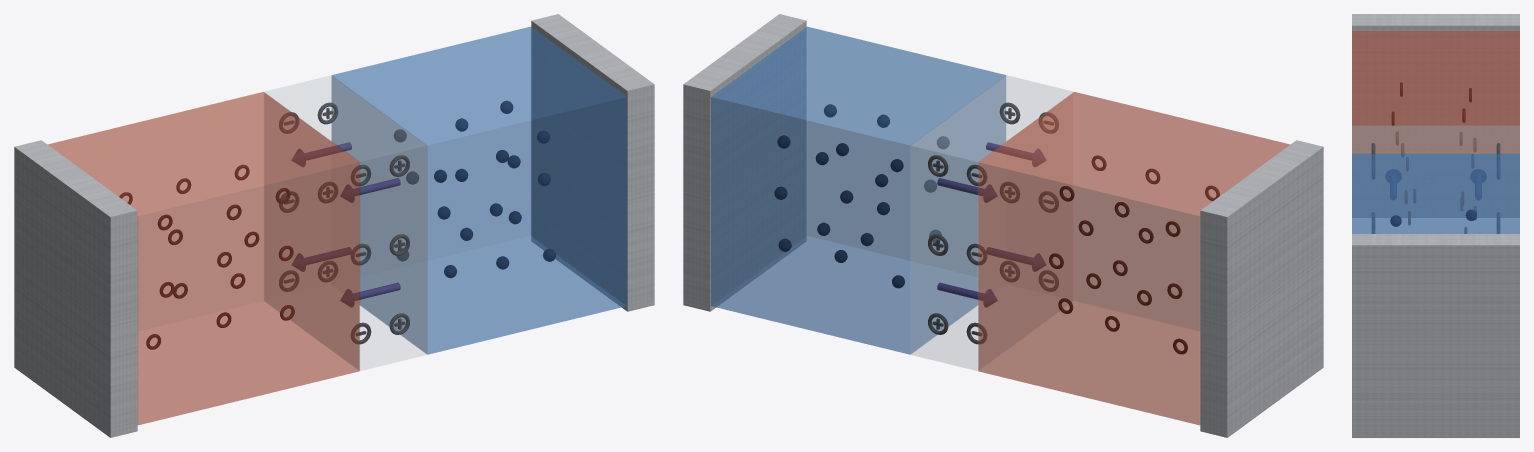
Rendered from pn-junction.glb.
The picture shows the model from 3 angles, left to right: view 1: azimuth 30°, elevation 25°; view 2: azimuth 150°, elevation 25°; view 3: azimuth 270°, elevation 25°; orthographic projection. The views are drawn at different scales.
Parts seen in each view (by area): view 1: NRegion, PRegion, AnodeContact, CathodeContact, DepletionZone, BuiltInField; view 2: NRegion, PRegion, AnodeContact, CathodeContact, DepletionZone, BuiltInField; view 3: CathodeContact, AnodeContact, PRegion, NRegion, DepletionZone, BuiltInField.
Part boxes in pixels (x1,y1,x2,y2): NRegion: (331, 26, 626, 354); PRegion: (47, 92, 359, 425); AnodeContact: (14, 140, 137, 437); CathodeContact: (531, 14, 654, 311); DepletionZone: (264, 75, 426, 370); BuiltInField: (292, 142, 400, 307); NRegion: (711, 26, 1006, 354); PRegion: (978, 92, 1290, 425); AnodeContact: (1200, 140, 1323, 437); CathodeContact: (683, 14, 806, 311); DepletionZone: (911, 75, 1073, 370); BuiltInField: (937, 142, 1045, 307); CathodeContact: (1352, 234, 1519, 437); AnodeContact: (1352, 14, 1519, 217); PRegion: (1352, 31, 1519, 233); NRegion: (1352, 154, 1519, 233); DepletionZone: (1352, 125, 1519, 233); BuiltInField: (1385, 169, 1486, 199).
Bounding box in the file's own units: 4.9 × 1.9 × 1.5.
8 materials, 1 textured.
